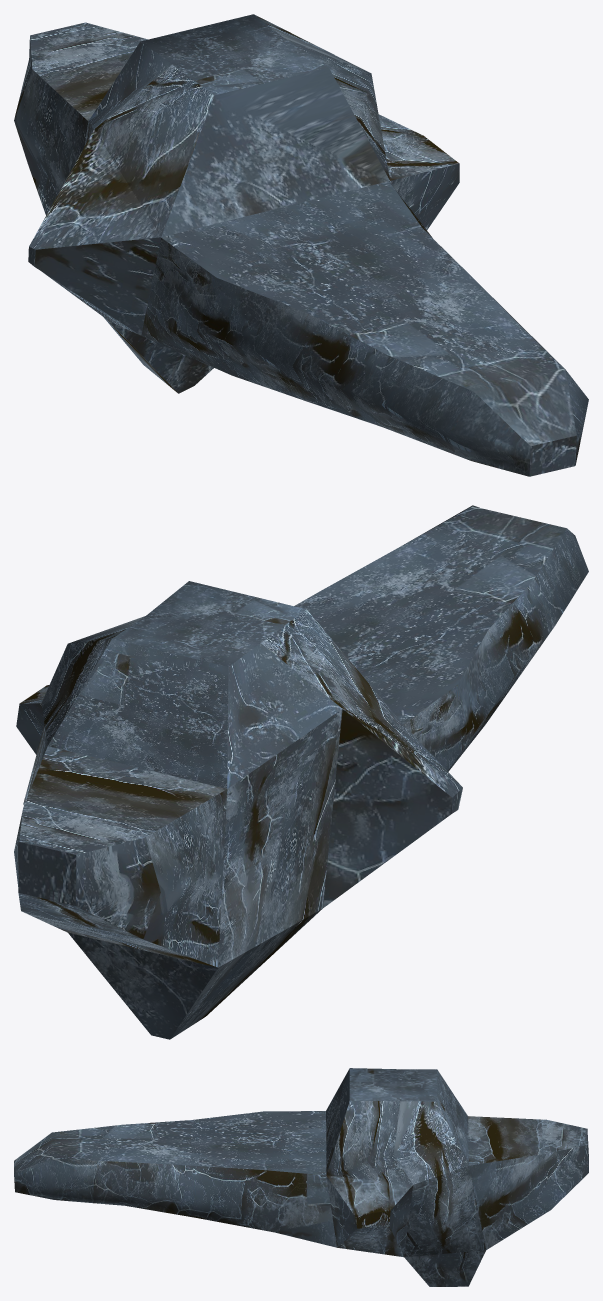
Rendered from DG01_Plataforma 01.fbx.
The picture shows the model from 3 angles, top to bottom: view 1: azimuth 30°, elevation 25°; view 2: azimuth 150°, elevation 25°; view 3: azimuth 270°, elevation 25°; orthographic projection. The views are drawn at different scales.
Parts seen in each view (by area): view 1: rock.043, rock.077; view 2: rock.077, rock.043; view 3: rock.043, rock.077.
Part boxes in pixels (left/top/right/bottom): rock.043: left=14, top=22, right=588, bottom=476; rock.077: left=28, top=14, right=459, bottom=393; rock.077: left=16, top=581, right=462, bottom=1039; rock.043: left=14, top=505, right=588, bottom=967; rock.043: left=14, top=1111, right=588, bottom=1249; rock.077: left=326, top=1068, right=486, bottom=1286.
Bounding box in the file's own units: 747 × 608 × 1535.
